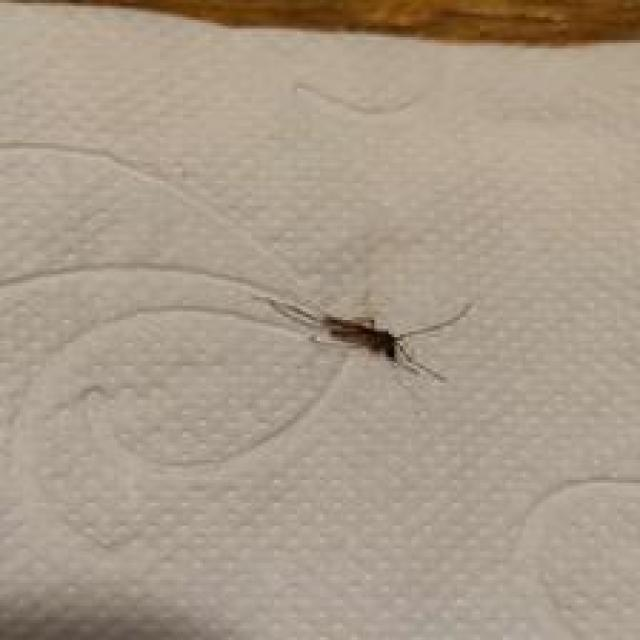Culex: (255, 291, 474, 386)
